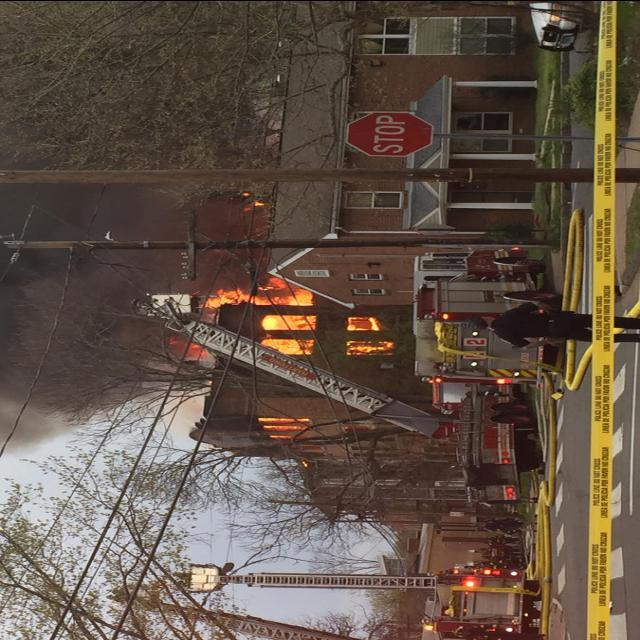Fire: (157, 258, 410, 402)
